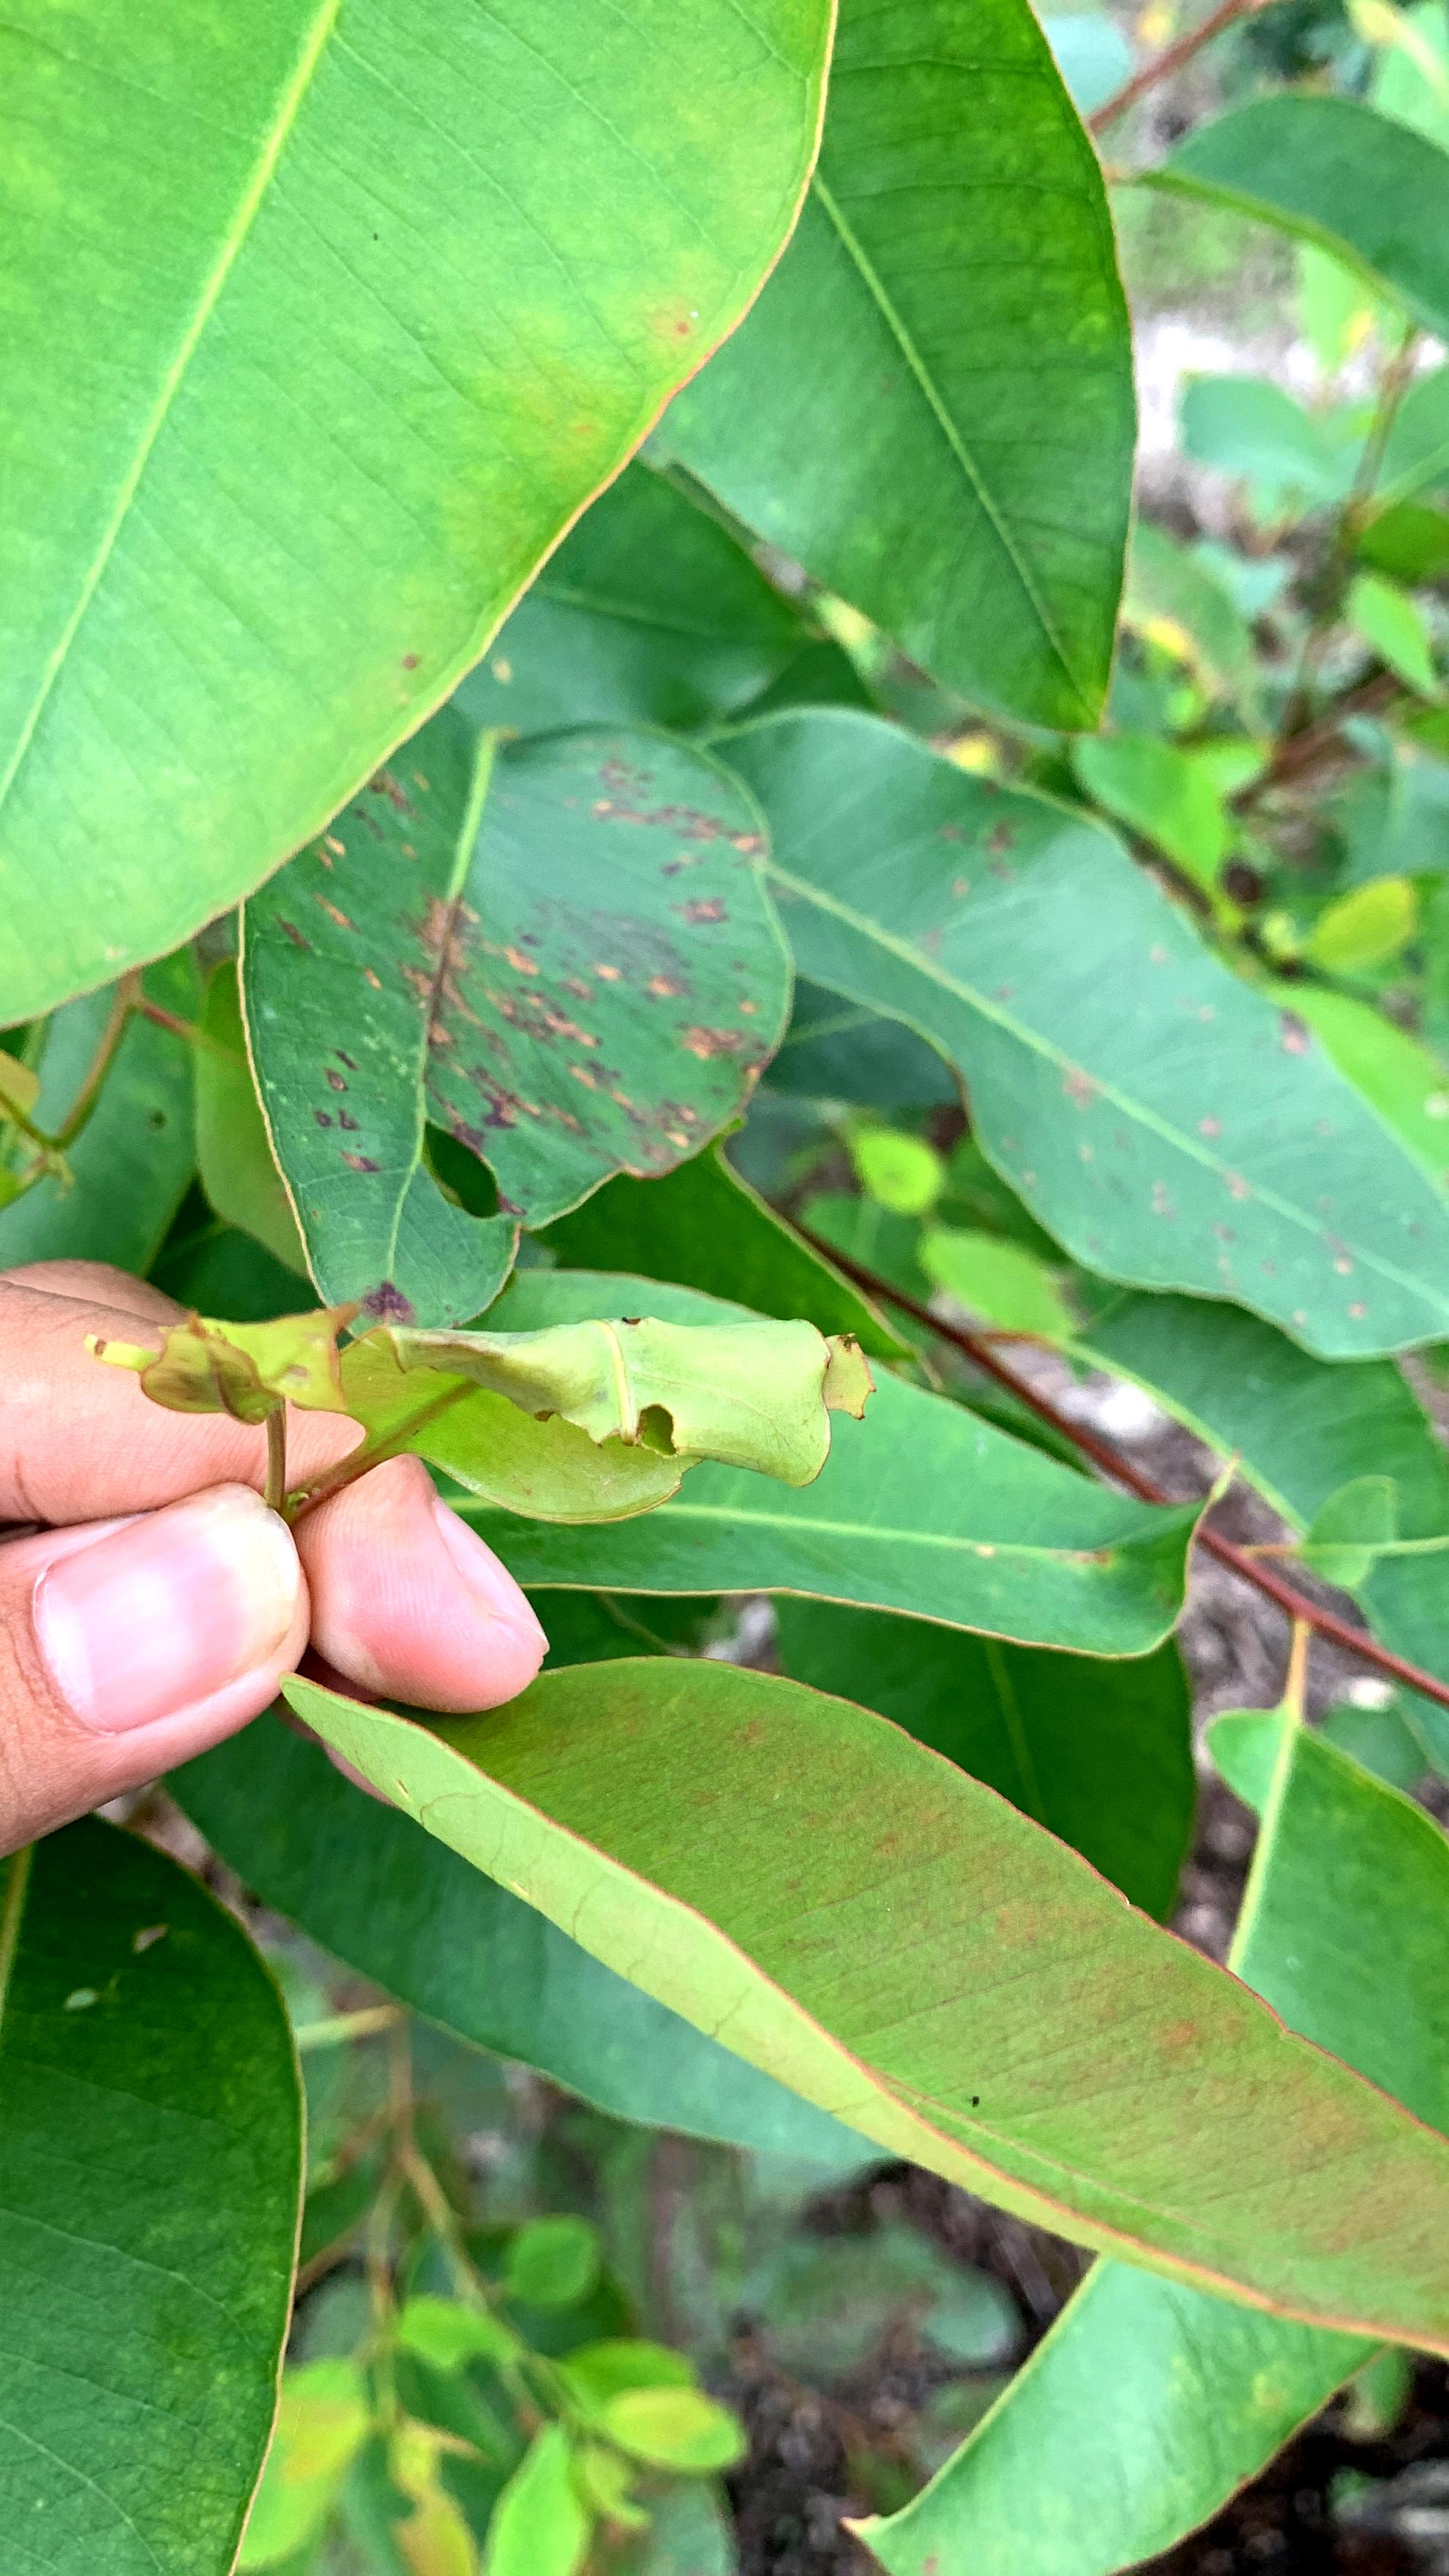Leaf Roller - Leaf: (88, 1224, 881, 1629)
